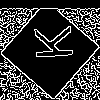K: (25, 25, 73, 62)
